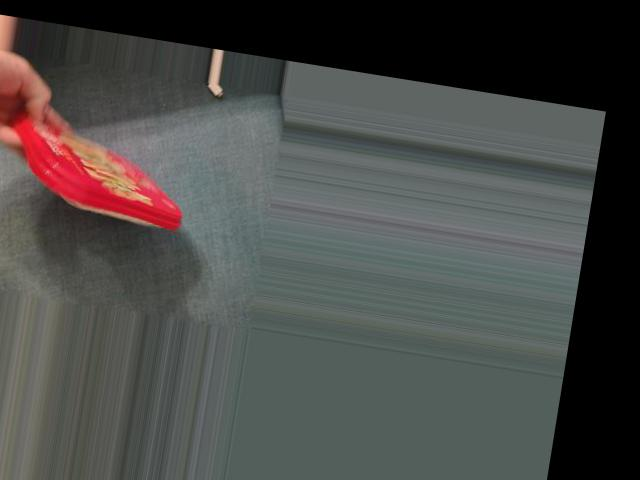cheese: (8, 111, 193, 234)
